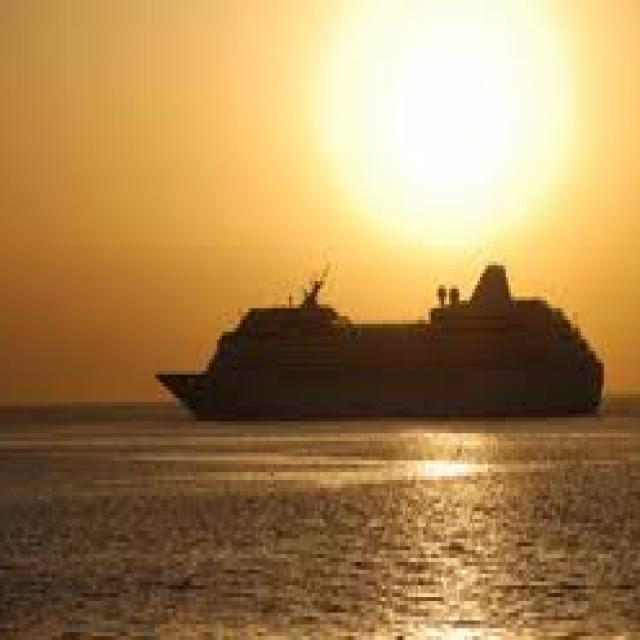passenger ship: (145, 256, 601, 422)
